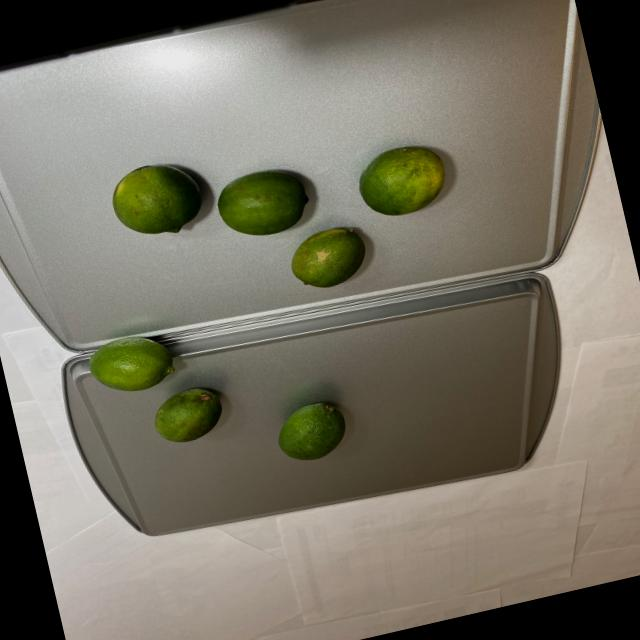lemon: (104, 96, 469, 330), (84, 288, 350, 506)
